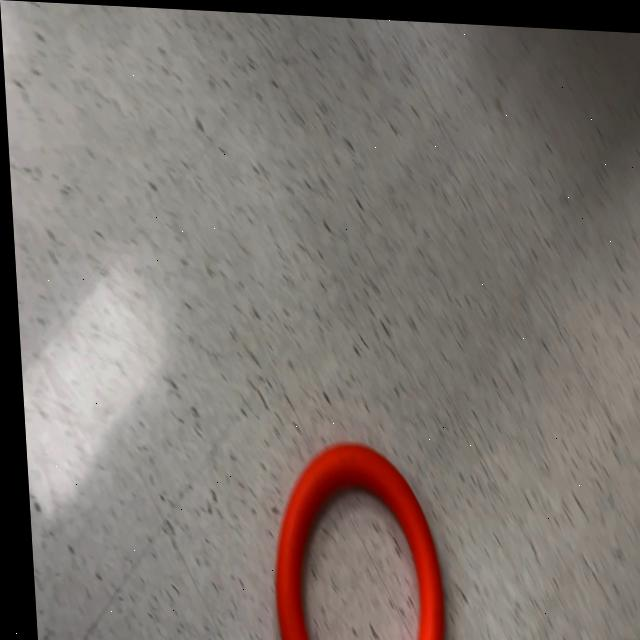note: (259, 430, 440, 640)
